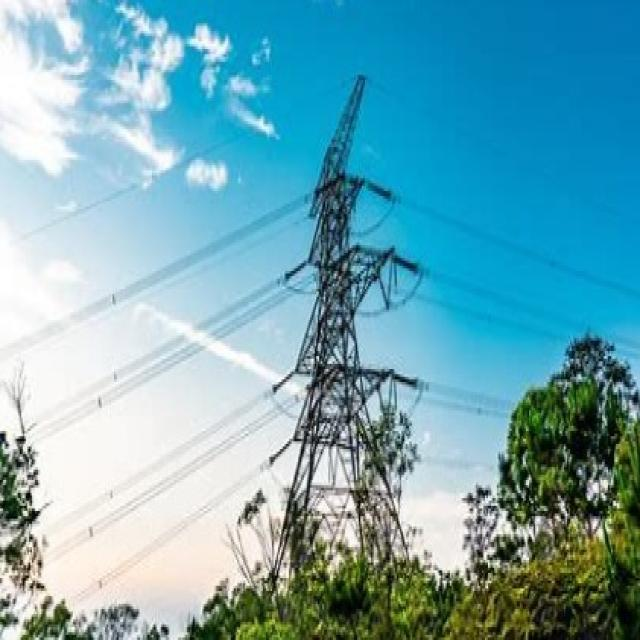utility poles: (474, 284, 609, 510), (324, 369, 436, 534)
